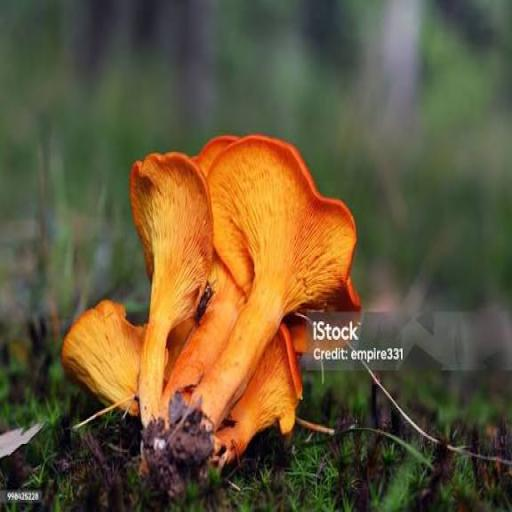Jack O Lantern Mushroom: (197, 128, 352, 453), (117, 141, 219, 456), (204, 332, 313, 458), (60, 298, 169, 423)
